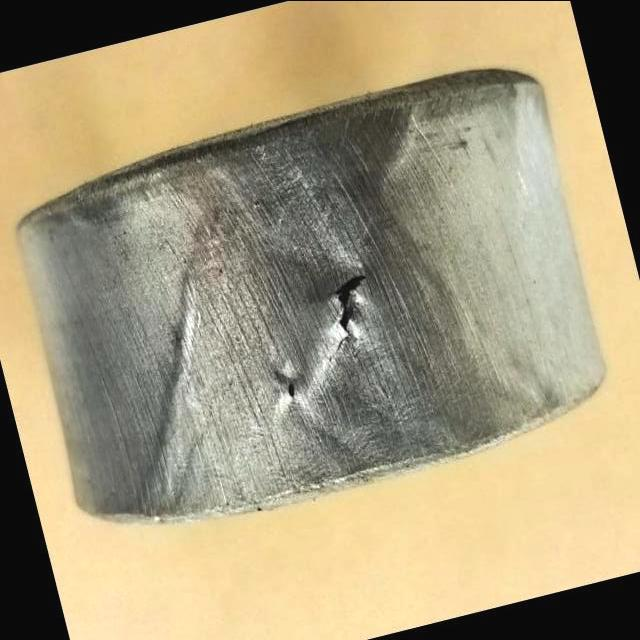defect: (327, 261, 368, 365)
